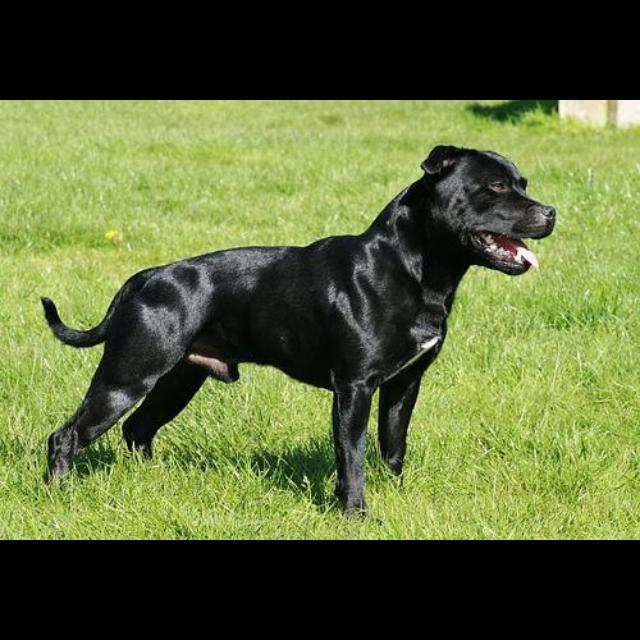staffford: (41, 143, 558, 523)
